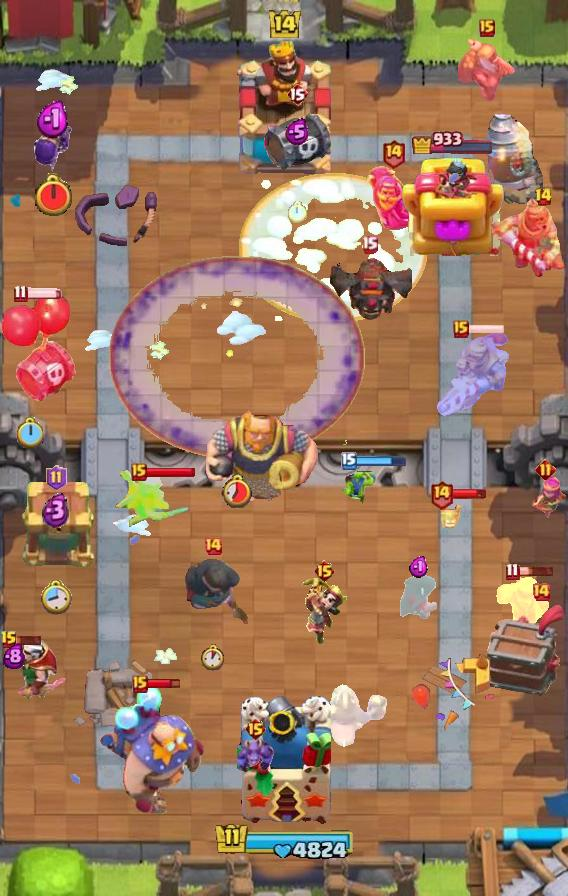archer-evolution: (326, 256, 412, 322)
arrows: (494, 574, 549, 630)
bandit: (458, 37, 516, 105)
bomb: (17, 481, 95, 569)
bomber-evolution: (300, 576, 348, 644)
cannon: (522, 477, 568, 523)
clock: (210, 821, 358, 863)
dart-goblin: (486, 604, 568, 698)
electro-spirit: (36, 101, 71, 140), (42, 492, 70, 528), (285, 118, 309, 146), (3, 643, 25, 669), (409, 556, 429, 578)
elixir: (33, 174, 74, 218), (221, 473, 255, 507), (40, 580, 72, 616), (17, 417, 43, 448), (200, 644, 226, 672), (288, 201, 308, 223)
emote: (355, 455, 407, 467), (144, 466, 196, 478), (25, 287, 63, 299), (517, 565, 555, 577), (146, 678, 181, 691), (468, 323, 505, 335), (6, 634, 43, 646), (451, 488, 487, 500)
firecracker-evolution: (367, 165, 421, 231)
freeze: (326, 684, 388, 748)
giant-skeleton: (204, 405, 320, 505)
goblin-ball: (30, 113, 76, 177)
ice-spirit-evolution: (440, 499, 472, 531)
king-tower: (228, 41, 340, 181), (237, 696, 331, 826)
little-prince: (98, 684, 206, 818)
magic-archer: (483, 113, 543, 205)
phoenix-big: (239, 173, 427, 321)
poison: (114, 468, 190, 528)
queen-tower: (401, 156, 505, 256)
ram-rider: (433, 329, 511, 419), (490, 199, 568, 281)
rocket: (109, 256, 365, 460)
royal-delivery: (235, 736, 275, 774)
royal-hog: (174, 556, 252, 628)
royal-recruit-evolution: (0, 291, 80, 405), (260, 111, 334, 175)
selected: (411, 128, 495, 154)
skeleton-king: (0, 637, 72, 703)
tesla: (397, 574, 441, 622)
text: (430, 478, 454, 509), (382, 139, 406, 169), (313, 559, 336, 583), (244, 717, 267, 741), (46, 465, 67, 491), (286, 82, 308, 106), (536, 460, 557, 481), (203, 536, 223, 556), (531, 582, 551, 602), (535, 187, 554, 207), (0, 630, 18, 650), (361, 234, 378, 253), (479, 19, 495, 37), (453, 320, 469, 338), (341, 452, 357, 470), (131, 463, 147, 481), (132, 675, 148, 693), (12, 285, 27, 303), (504, 563, 519, 581)
zap: (341, 466, 377, 506)
